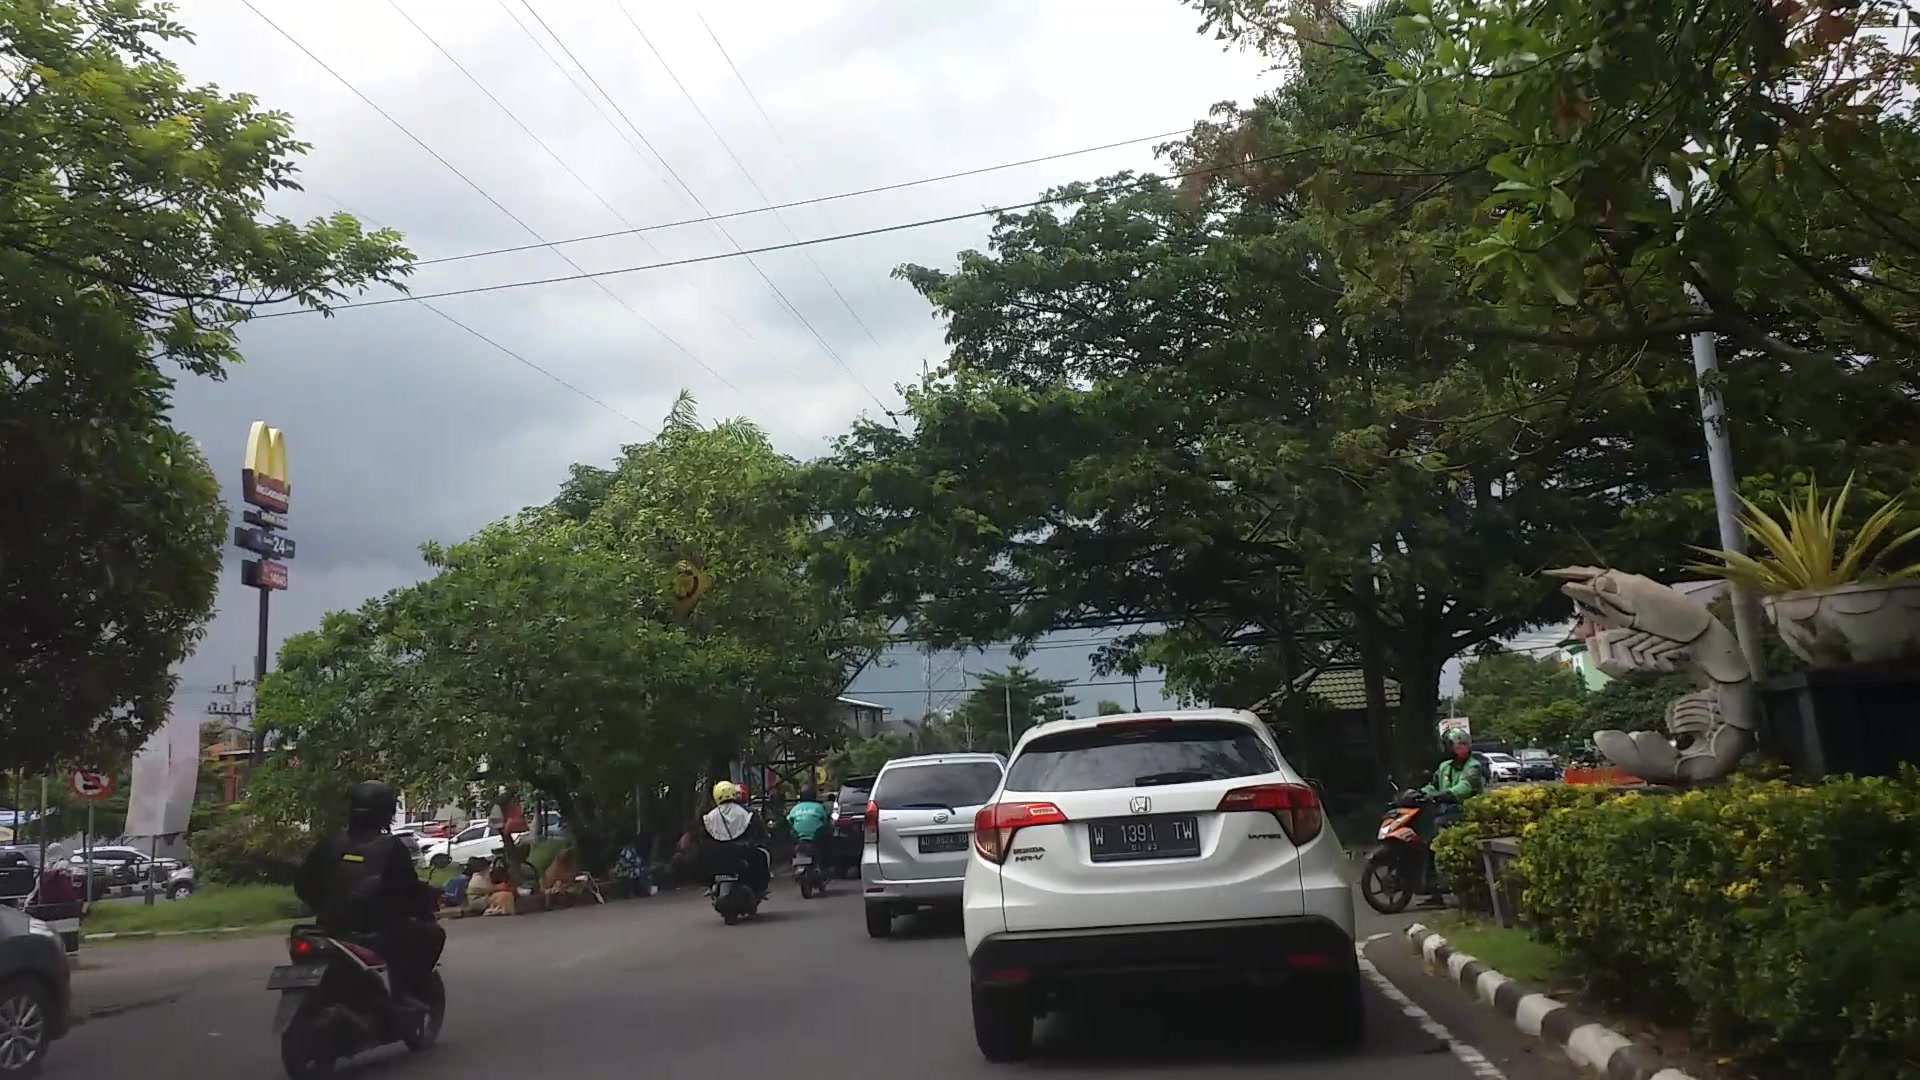plate_positive: (1091, 818, 1203, 861)
